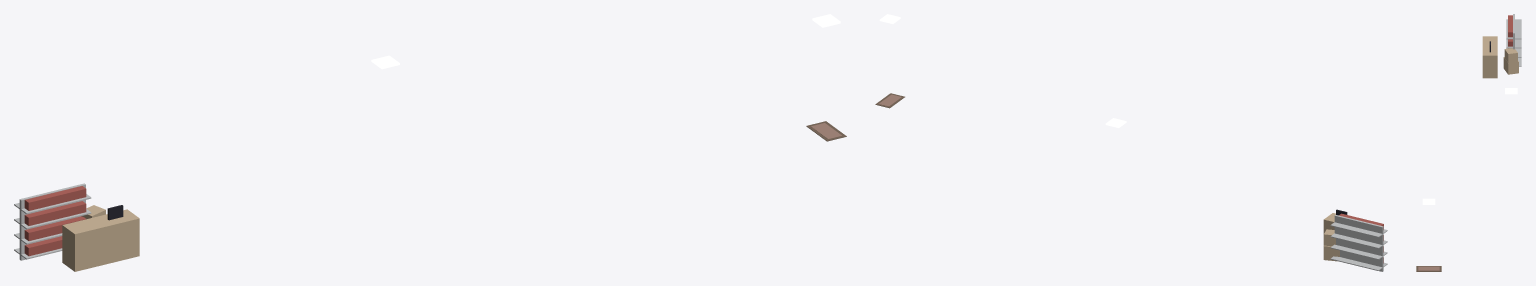
The model's file is fine-s0.glb.
The picture shows the model from 3 angles, left to right: view 1: azimuth 30°, elevation 25°; view 2: azimuth 150°, elevation 25°; view 3: azimuth 270°, elevation 25°; orthographic projection. The views are drawn at different scales.
Visible parts, largest first — view 1: shop-counter.000, shelving.000; view 2: shelving.000, cardboard-box.000; view 3: shop-counter.000, shelving.000, cardboard-box.000, soft-s0, ceiling-lamp.000, ceiling-lamp.001.
Part boxes in pixels (x1,y1,x2,y2): shop-counter.000: [62, 205, 139, 271]; shelving.000: [14, 183, 91, 260]; shelving.000: [1330, 213, 1387, 271]; cardboard-box.000: [1323, 229, 1339, 261]; shop-counter.000: [1482, 36, 1497, 78]; shelving.000: [1506, 14, 1521, 66]; cardboard-box.000: [1503, 48, 1518, 74]; soft-s0: [1416, 266, 1441, 271]; ceiling-lamp.000: [1422, 198, 1435, 204]; ceiling-lamp.001: [1505, 88, 1517, 94].
Size of the model in its own units: 20.71 by 2.96 by 4.15.
